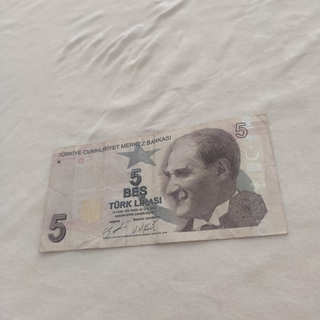5TLFront: (38, 113, 288, 254)
